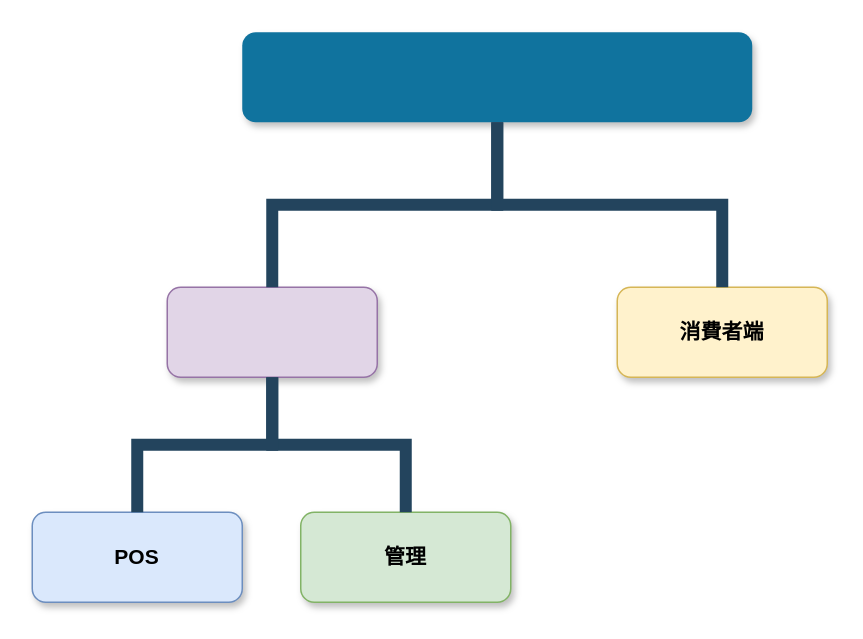
Some shapes in this 863 by 639 pixel diagram are drawn without their labels. Here are the shapes that lost their labels. From the top down, the centre of each, then its label:
At [498,79]: "溫室系統".
At [273,334]: "管理端".
